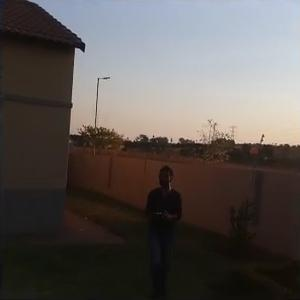follow: (138, 160, 185, 298)
